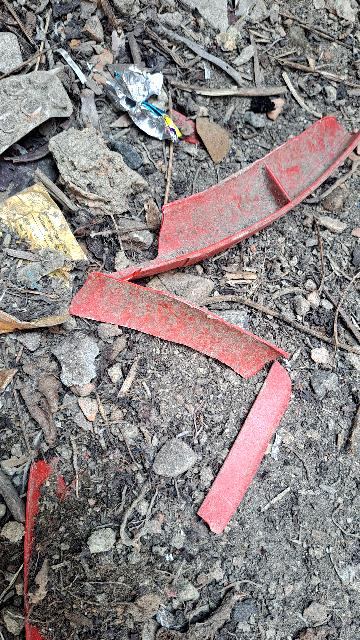hardplastic: (119, 105, 360, 286), (73, 270, 299, 389), (192, 352, 301, 543)
